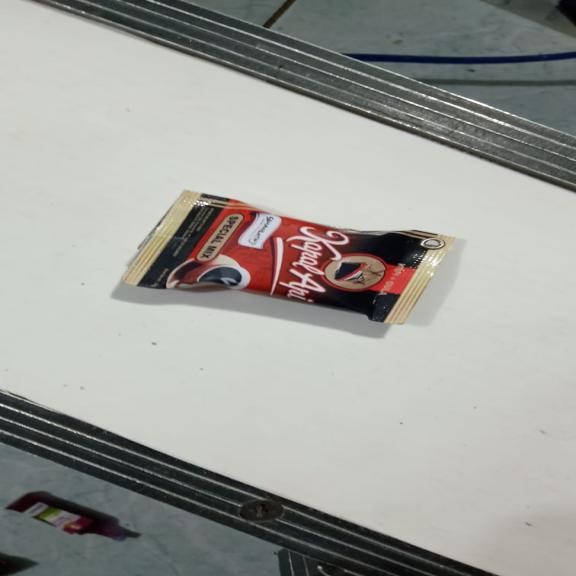Plastik: (120, 190, 457, 324), (6, 490, 129, 542)
